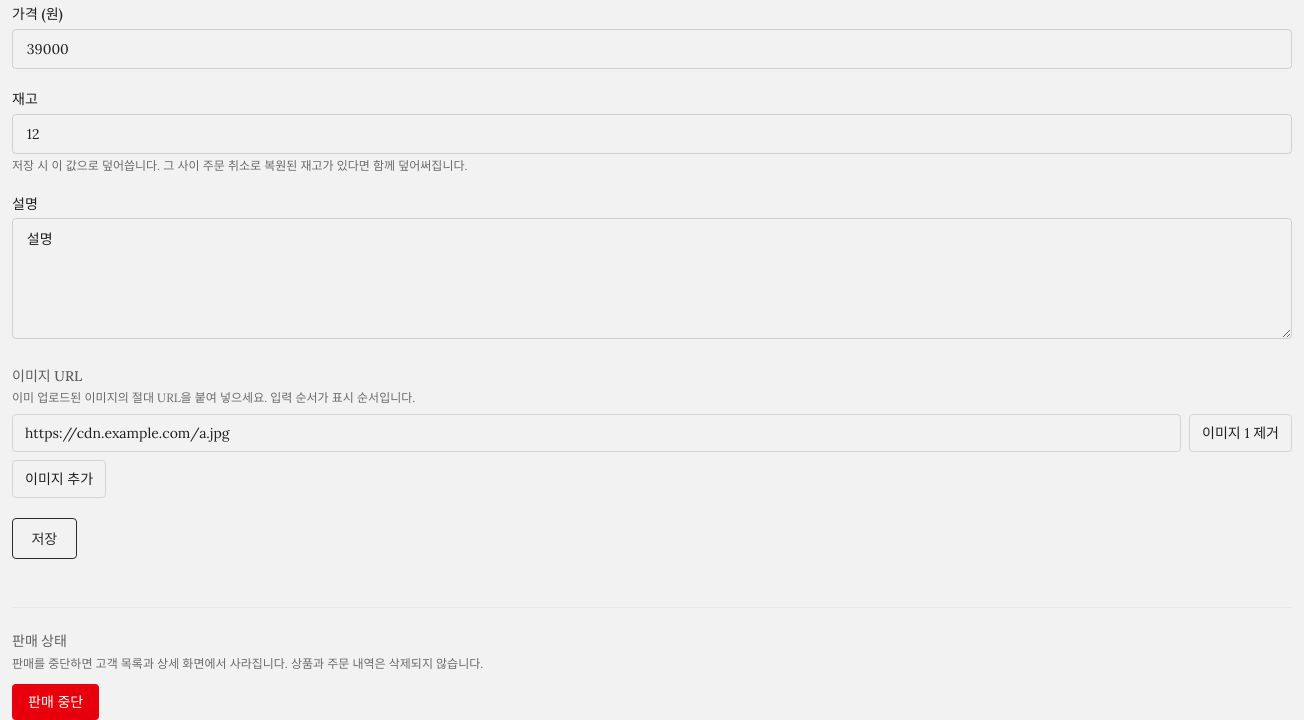
Test: [AC-ADMIN-046a] ProductForm reads a redirect as a failure, not a success › save/edit: shows the dedicated message and never refreshes
The image size is (1304, 720).
(page scrolled)
What coordinates should you click on to do the following:
click the button "저장"
I would click on:
 (44, 539)
Its box is [12,518,76,559].
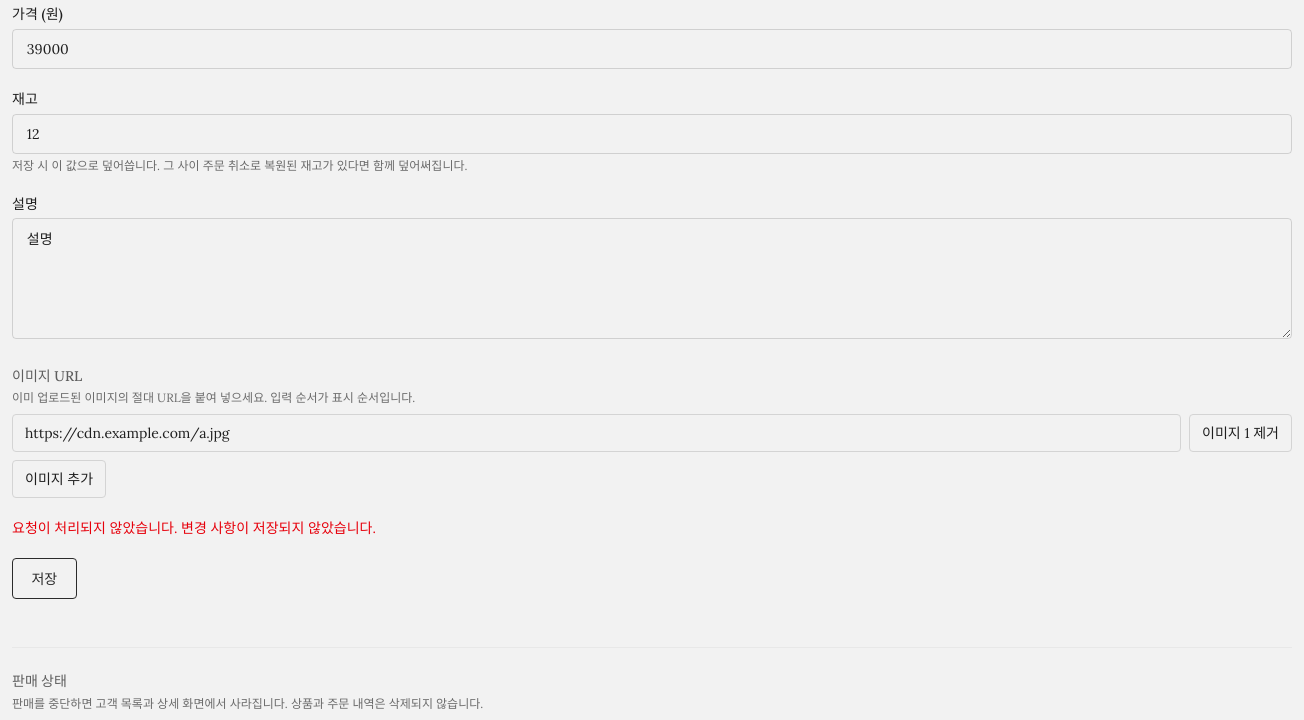
Result: the text "요청이 처리되지 않았습니다. 변경 사항이 저장되지 않았습니다." is shown at [12,519,376,537]
